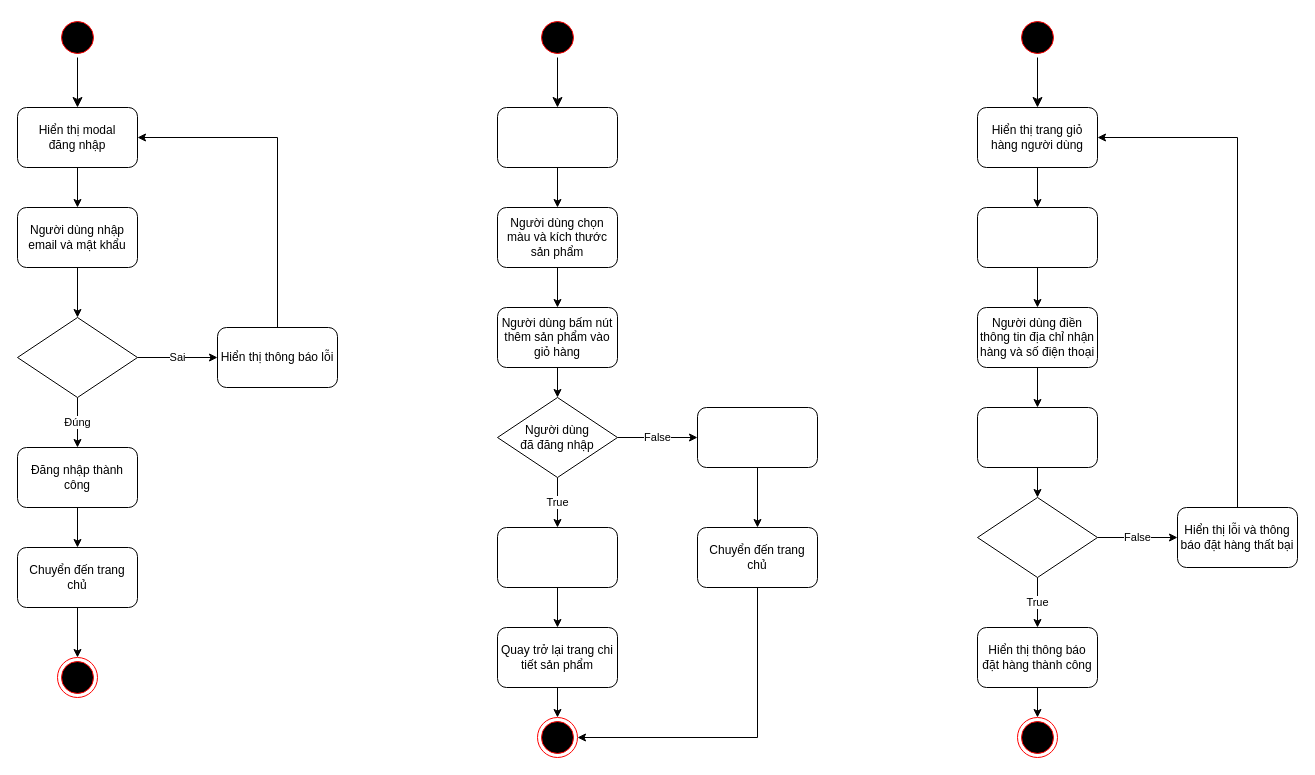
Some shapes in this 1315 by 775 pixel diagram are drawn without their labels. Each missing label, with the box of its shape:
Hiển thị trang chi tiết sản phẩm: (496, 106, 618, 168)
Người dùng bấm nút đặt hàng: (976, 406, 1098, 468)
Người dùng chọn các sản phẩm muốn đặt: (976, 206, 1098, 268)
Thông báo lỗi yêu cầu đăng nhập: (696, 406, 818, 468)
Thông báo thêm sản phẩm vào giỏ hàng thành công: (496, 526, 618, 588)
Xác thực thông tin tài khoản: (16, 316, 138, 398)
Đơn hàng đặt thành công: (976, 496, 1098, 578)
